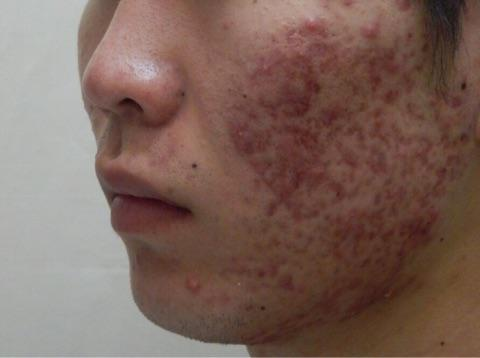fore: (253, 187, 292, 227), (172, 273, 200, 305), (272, 266, 301, 295), (364, 105, 388, 138), (383, 83, 409, 113), (406, 205, 430, 237), (319, 279, 343, 306), (242, 327, 278, 345), (368, 181, 392, 206), (291, 110, 314, 136), (336, 197, 358, 224), (304, 73, 327, 98), (311, 37, 336, 59), (322, 95, 348, 116), (414, 138, 437, 161), (334, 149, 356, 171), (304, 144, 327, 165), (289, 46, 313, 66), (276, 27, 296, 51), (324, 177, 349, 196), (444, 90, 467, 110), (301, 7, 318, 34), (378, 278, 396, 303), (358, 23, 378, 45), (246, 156, 273, 172), (281, 63, 306, 80), (267, 121, 287, 142), (356, 249, 376, 270), (357, 50, 379, 69), (364, 67, 383, 89), (217, 262, 239, 281), (439, 134, 456, 158), (452, 128, 470, 150), (376, 223, 400, 239), (228, 124, 250, 141), (232, 253, 249, 275), (362, 206, 380, 226), (282, 93, 303, 110), (344, 117, 361, 138), (288, 306, 310, 322), (234, 139, 256, 155), (439, 116, 457, 135), (385, 45, 402, 65), (439, 164, 456, 183), (428, 181, 445, 200), (293, 163, 307, 185), (244, 104, 261, 122), (254, 59, 270, 78), (360, 228, 377, 245), (331, 227, 344, 249), (363, 152, 378, 171), (252, 258, 268, 275), (259, 171, 278, 185), (312, 161, 329, 176), (218, 291, 233, 307), (258, 93, 272, 110), (402, 26, 417, 41), (290, 226, 306, 240), (389, 243, 407, 255), (424, 92, 438, 107), (304, 206, 320, 219), (395, 0, 411, 12), (314, 199, 330, 211), (340, 0, 357, 10)
